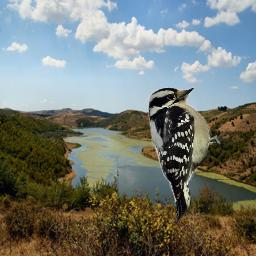Woodpecker: (146, 84, 231, 224)
